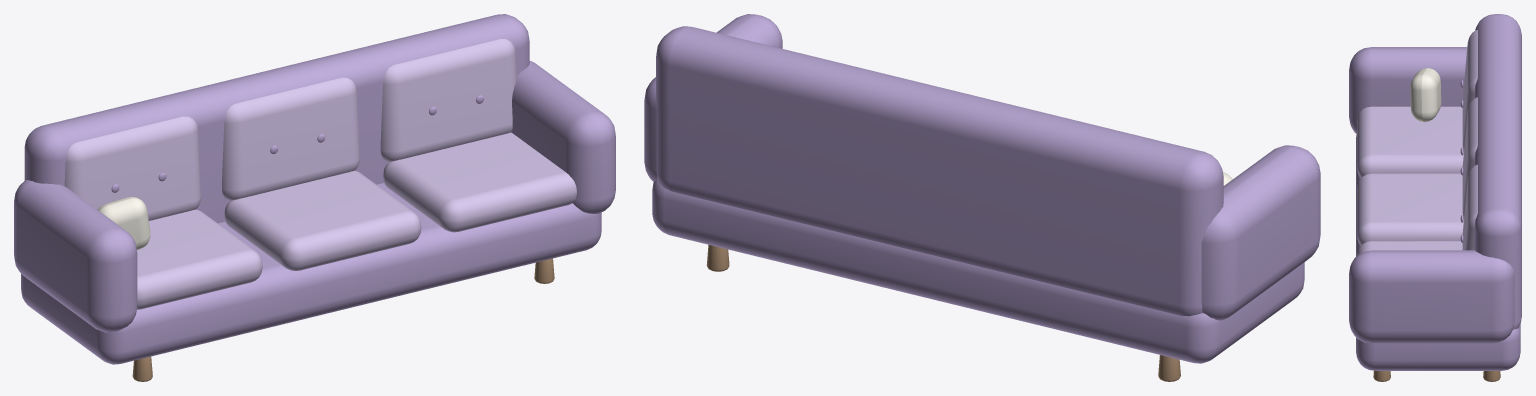
File: sofa_three.glb
The picture shows the model from 3 angles, left to right: view 1: azimuth 30°, elevation 25°; view 2: azimuth 150°, elevation 25°; view 3: azimuth 270°, elevation 25°; orthographic projection. The views are drawn at different scales.
Parts seen in each view (by area): view 1: Upholstered base, Continuous back, Round armrest, Back cushion.001, Seat cushion.001, Back cushion.002, Seat cushion.002, Back cushion, Round armrest.001, Seat cushion, Accent pillow; view 2: Continuous back, Upholstered base, Round armrest, Round armrest.001; view 3: Round armrest.001, Continuous back, Seat cushion.001, Seat cushion, Round armrest, Upholstered base, Accent pillow, Back cushion.001, Back cushion, Seat cushion.002, Back cushion.002, Oak foot.002 (+1 smaller).
Part boxes in pixels (<box>): Upholstered base: <box>21,183,601,364</box>; Continuous back: <box>24,14,529,223</box>; Round armrest: <box>14,180,137,332</box>; Back cushion.001: <box>222,77,359,200</box>; Seat cushion.001: <box>224,170,421,270</box>; Back cushion.002: <box>380,39,516,162</box>; Seat cushion.002: <box>383,132,576,232</box>; Back cushion: <box>64,116,201,220</box>; Round armrest.001: <box>511,61,615,213</box>; Seat cushion: <box>137,209,262,309</box>; Accent pillow: <box>98,197,150,249</box>; Continuous back: <box>656,26,1223,316</box>; Upholstered base: <box>652,180,1304,363</box>; Round armrest: <box>1201,145,1320,320</box>; Round armrest.001: <box>644,14,782,181</box>; Round armrest.001: <box>1349,250,1514,343</box>; Continuous back: <box>1474,14,1521,329</box>; Seat cushion.001: <box>1357,173,1463,245</box>; Seat cushion: <box>1357,106,1463,178</box>; Round armrest: <box>1349,47,1467,134</box>; Upholstered base: <box>1356,134,1520,370</box>; Accent pillow: <box>1410,68,1441,122</box>; Back cushion.001: <box>1462,97,1477,218</box>; Back cushion: <box>1462,29,1477,150</box>; Seat cushion.002: <box>1357,241,1462,255</box>; Back cushion.002: <box>1462,164,1477,250</box>; Oak foot.002: <box>1373,370,1390,381</box>.
Size of the model in its own units: 4.24 by 1.6 by 1.39.
